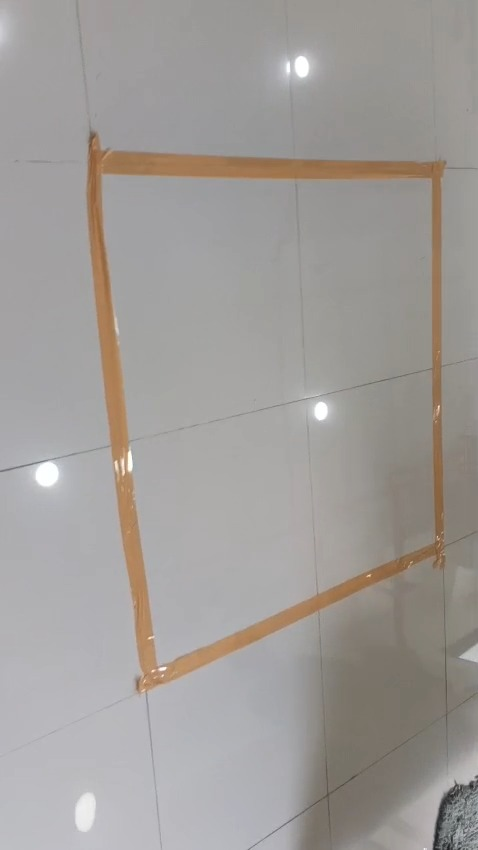floor marking: (88, 133, 445, 692)
